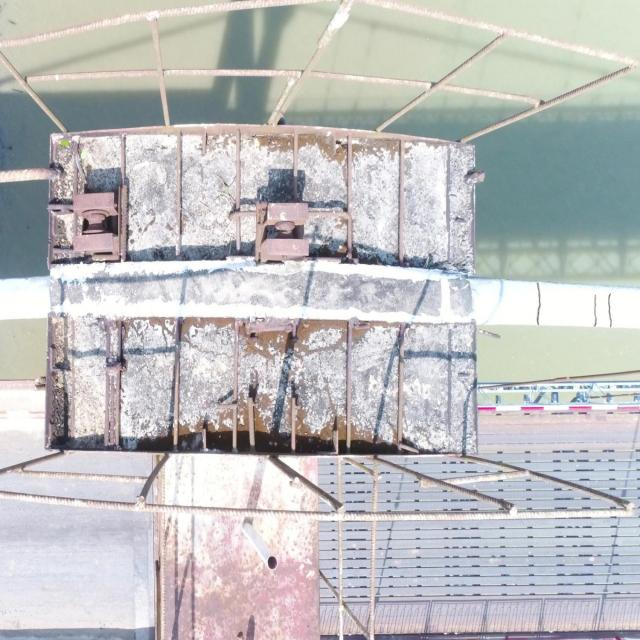crack: (535, 282, 542, 325), (592, 294, 598, 326), (607, 294, 612, 328)
